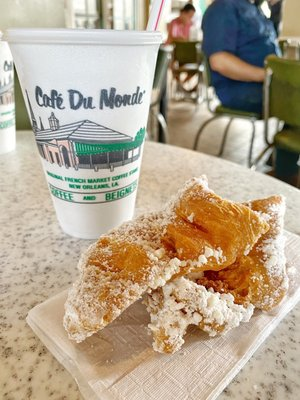pizza: (4, 27, 164, 239)
